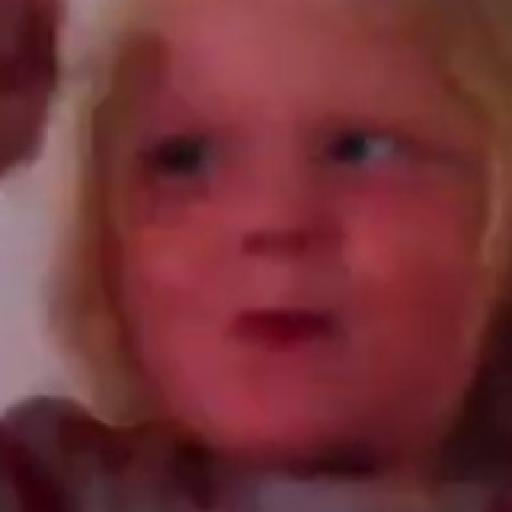Autism: (77, 21, 512, 459)
